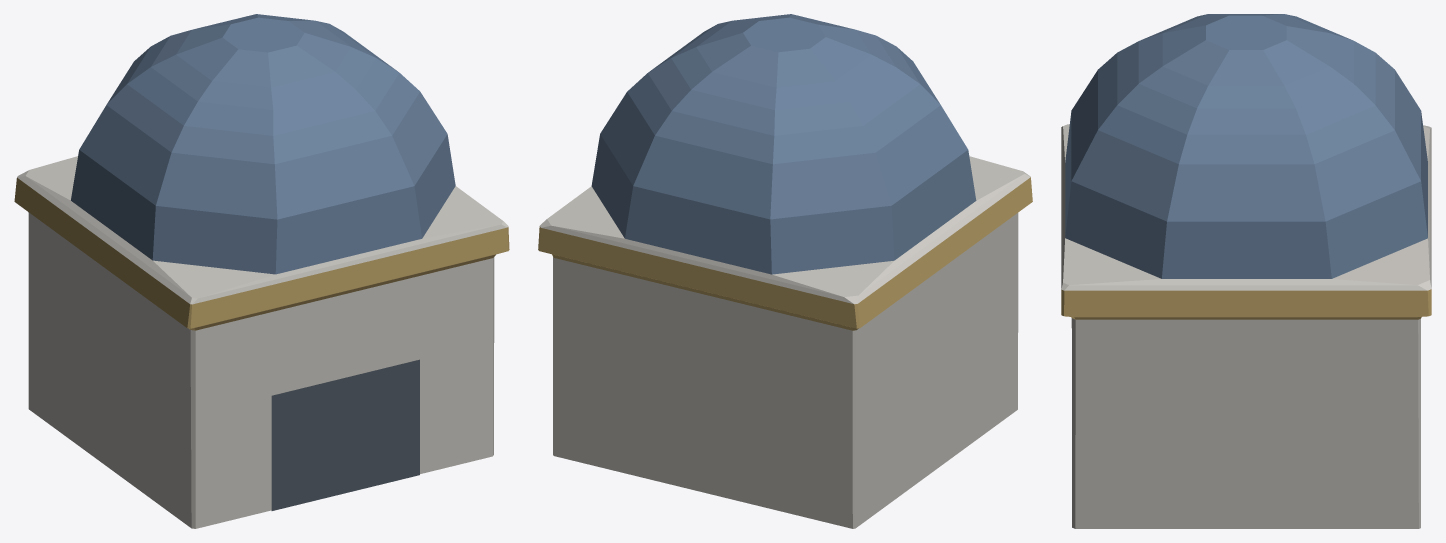
The model's file is loin.glb.
3 renders of one model, left to right at view 1: azimuth 30°, elevation 25°; view 2: azimuth 150°, elevation 25°; view 3: azimuth 270°, elevation 25°, orthographic. The views are drawn at different scales.
Parts seen in each view (by area): view 1: loin; view 2: loin; view 3: loin.
Boxes of the visible parts, x1,y1,x2,y2 form: loin: (14, 14, 509, 528); loin: (538, 14, 1032, 528); loin: (1061, 14, 1431, 528).
Size of the model in its own units: 0.7614 by 0.8961 by 0.7173.
